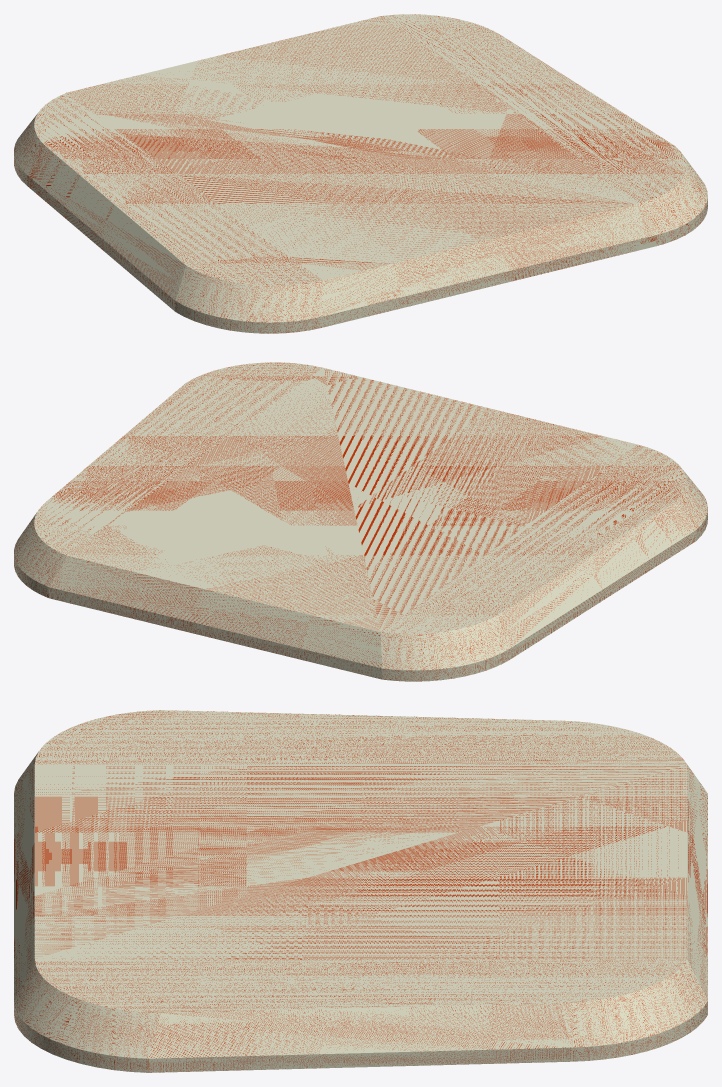
The model's file is original-3.obj.
3 views of the same model, one above another, from view 1: azimuth 30°, elevation 25°; view 2: azimuth 150°, elevation 25°; view 3: azimuth 270°, elevation 25° (orthographic). The views are drawn at different scales.
Parts seen in each view (by area): view 1: Group4/mesh5/mesh5-geometry#mesh5-geometry; view 2: Group4/mesh5/mesh5-geometry#mesh5-geometry; view 3: Group4/mesh5/mesh5-geometry#mesh5-geometry.
Part boxes in pixels (x1,y1,x2,y2): Group4/mesh5/mesh5-geometry#mesh5-geometry: (14,14,707,333); Group4/mesh5/mesh5-geometry#mesh5-geometry: (14,362,707,681); Group4/mesh5/mesh5-geometry#mesh5-geometry: (14,710,707,1072).
Size of the model in its own units: 0.9241 by 0.0663 by 0.8393.
